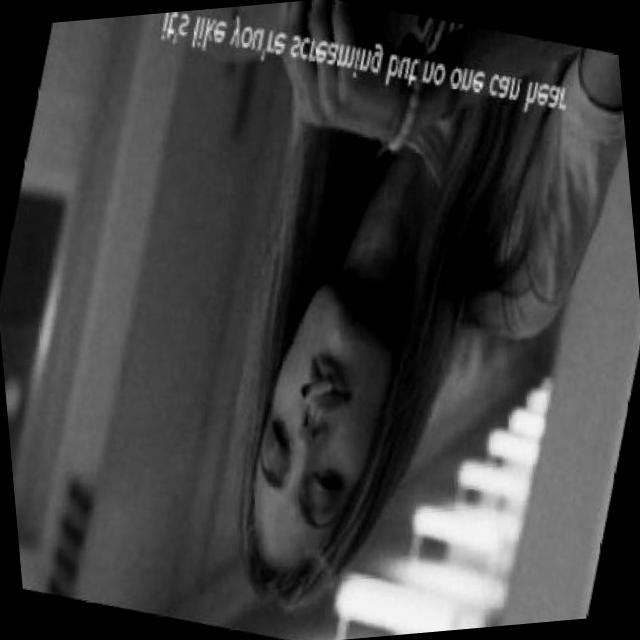cigarette: (296, 366, 342, 407)
